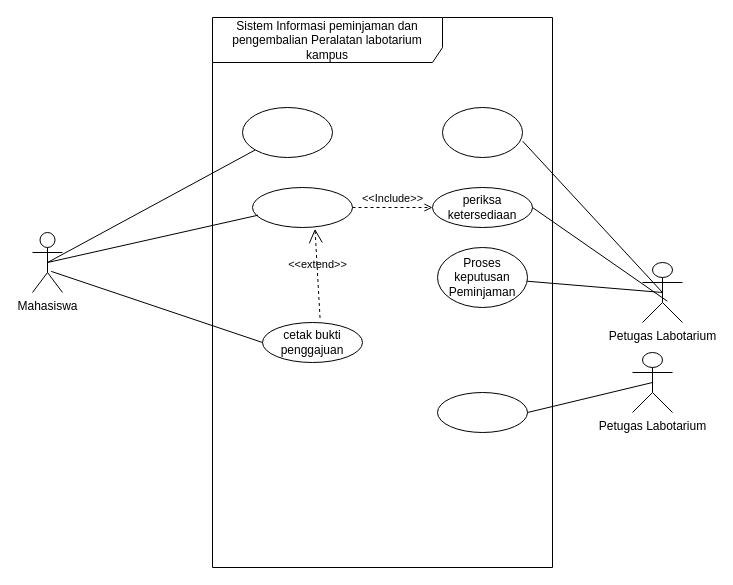
Some shapes in this 733 by 585 pixel diagram are drawn without their labels. The centre of each missing label's shape, as x and y in pixels:
Ajukan Peminjaman: the point at 302,207
Kelola Dan Peralatan: the point at 482,132
Lihat Ketersedian peralatan: the point at 287,132
Lihat Laporan peminjaman: the point at 482,412
